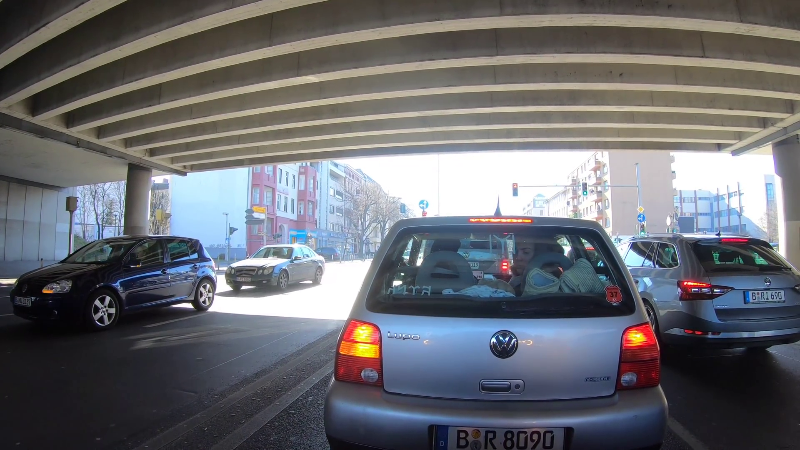Plate: (436, 422, 567, 450), (743, 288, 787, 303), (12, 294, 34, 307), (234, 276, 252, 282)
